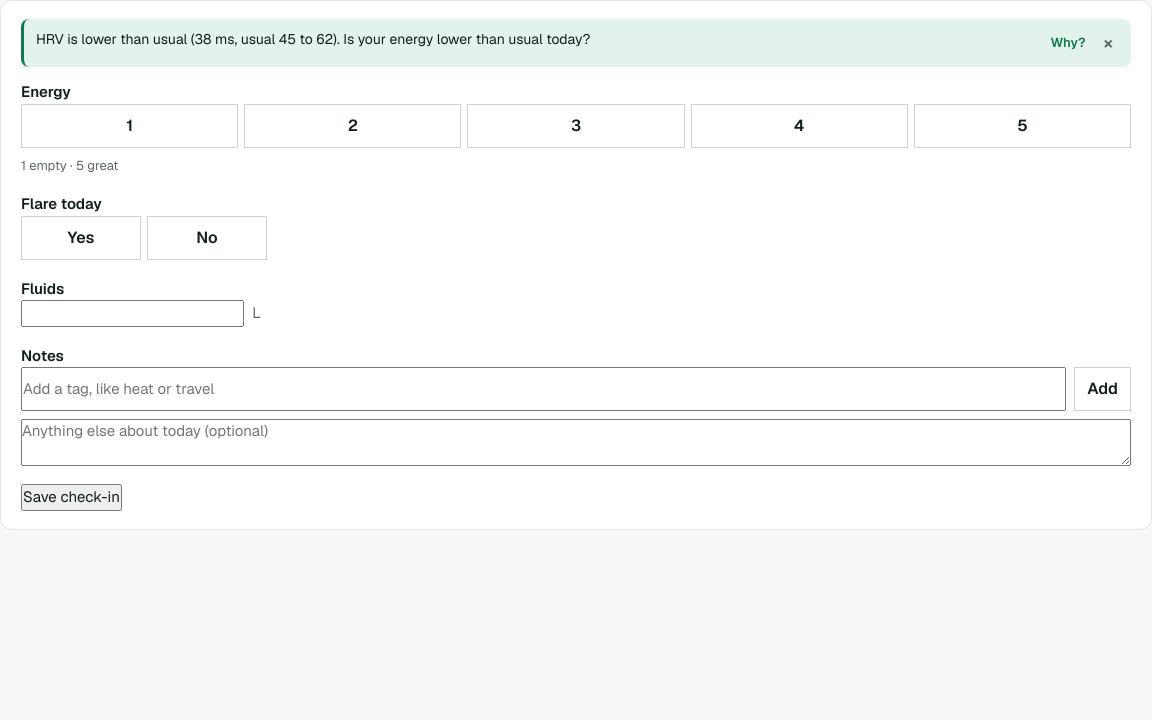
it: metric questions › shows the question above its field and never fills in an answer
Check: the element named "Question about HRV" shows "Is your energy lower than usual today?", box [36,30,590,48]
Step 1. Click the button "Why?" → (1068, 43), box [1045,29,1092,57]
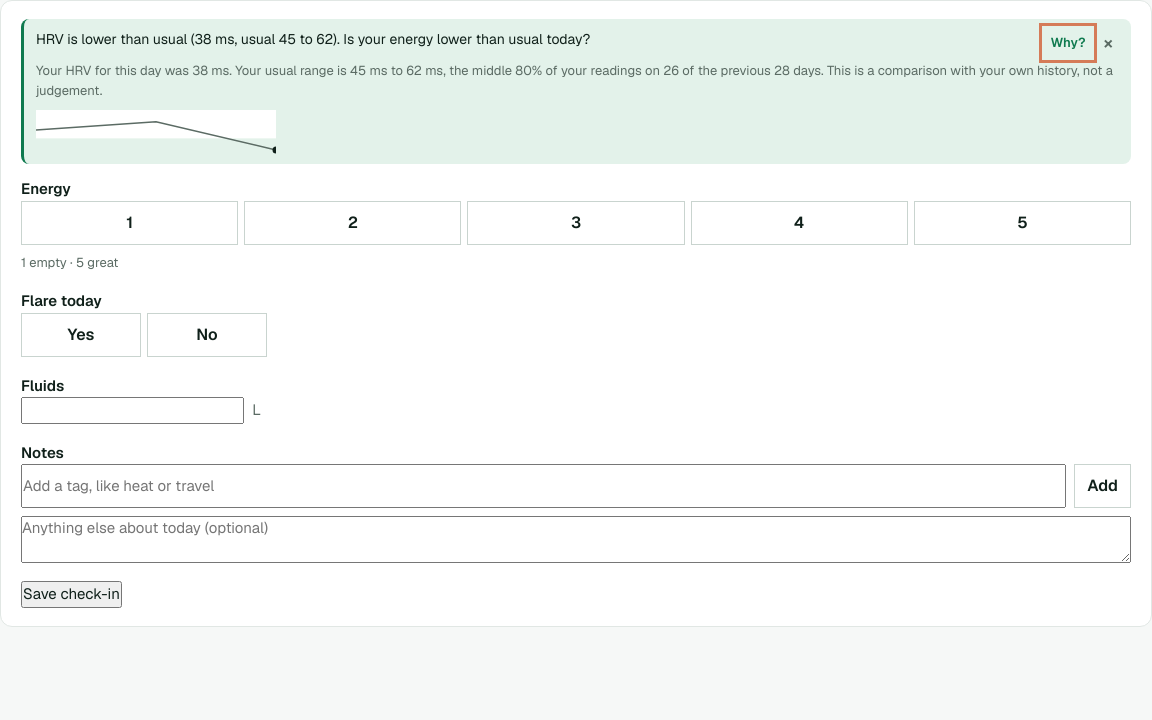
Check: the text "Your HRV for this day was 38 ms. Your usual range is 45 ms to 62 ms" shows "on 26 of the previous 28 days", box [36,61,1119,100]
Check: the picture named "HRV over 3 days" is shown, box [36,106,276,154]
